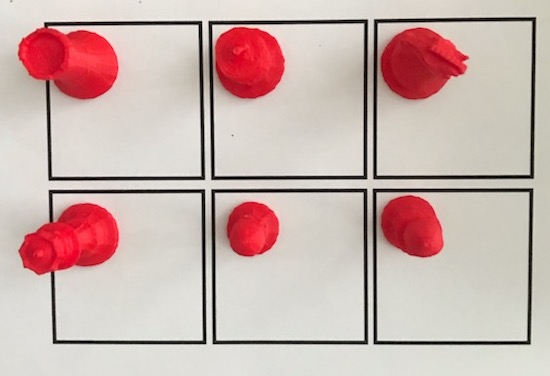Red Bishop: (376, 191, 461, 269)
Red Castle: (11, 17, 131, 104)
Red King: (211, 27, 288, 107)
Red Knight: (380, 26, 471, 110)
Red Pawn: (223, 199, 283, 261)
Red Queen: (13, 195, 122, 283)
